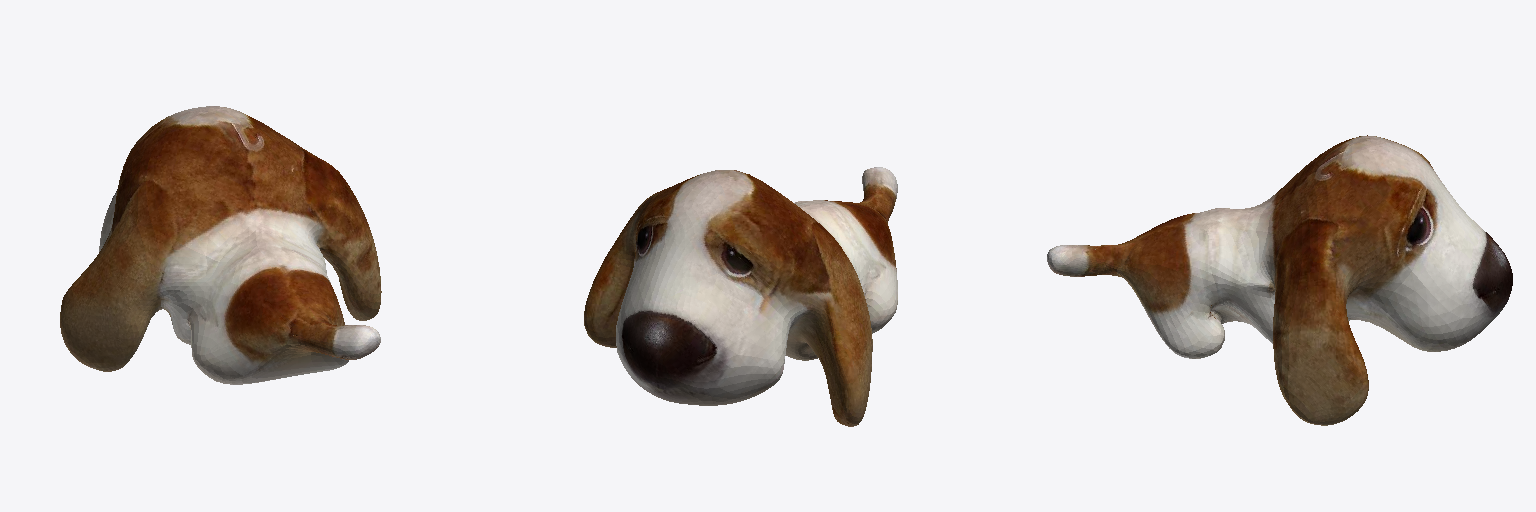
The picture shows the model from 3 angles: view 1: azimuth 30°, elevation 25°; view 2: azimuth 150°, elevation 25°; view 3: azimuth 270°, elevation 25°; orthographic projection.
Parts seen in each view (by area): view 1: Mesh1__1_1_Model; view 2: Mesh1__1_1_Model; view 3: Mesh1__1_1_Model.
Part boxes in pixels (left/top/right/bottom): Mesh1__1_1_Model: left=60, top=106, right=381, bottom=384; Mesh1__1_1_Model: left=584, top=167, right=897, bottom=426; Mesh1__1_1_Model: left=1047, top=135, right=1512, bottom=425.
Size of the model in its own units: 0.7048 by 0.5292 by 0.989.
1 materials, 1 textured.